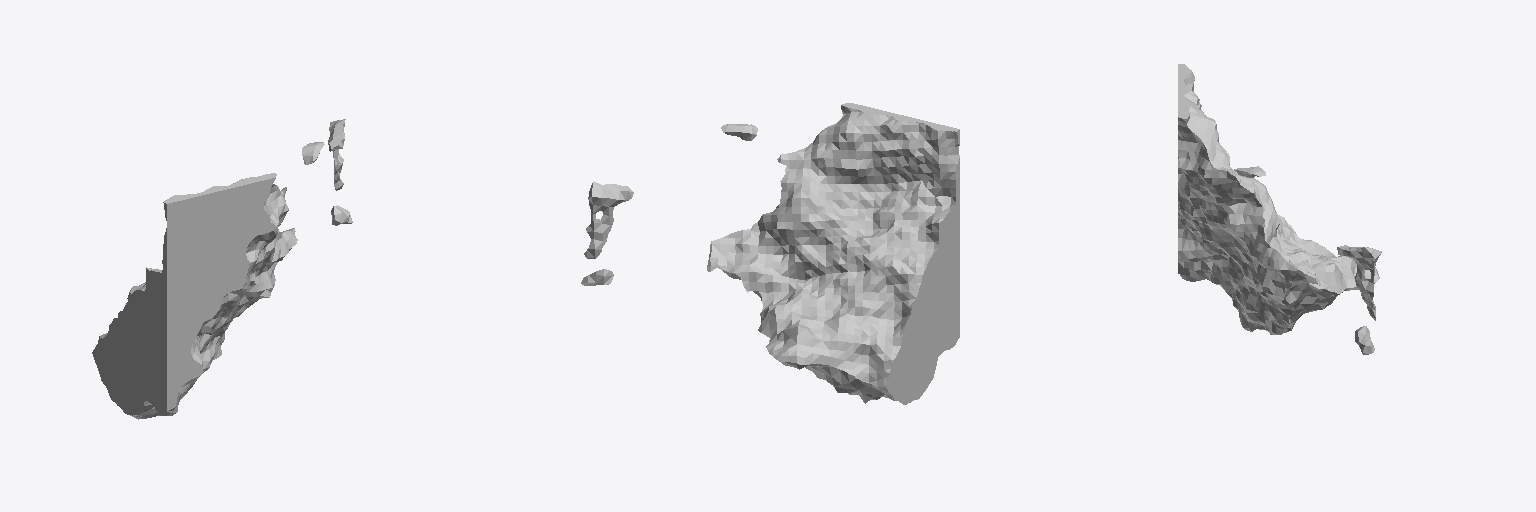
Rendered from cube_20_seed_4_shard.008.obj.
The picture shows the model from 3 angles: view 1: azimuth 30°, elevation 25°; view 2: azimuth 150°, elevation 25°; view 3: azimuth 270°, elevation 25°; orthographic projection.
Visible parts, largest first — view 1: Cube_shard.008_Cube_shard.148; view 2: Cube_shard.008_Cube_shard.148; view 3: Cube_shard.008_Cube_shard.148.
Part boxes in pixels (x1,y1,x2,y2): Cube_shard.008_Cube_shard.148: (92, 119, 352, 419); Cube_shard.008_Cube_shard.148: (581, 103, 959, 404); Cube_shard.008_Cube_shard.148: (1178, 64, 1381, 354).
Bounding box in the file's own units: 1.69 × 1.42 × 1.06.